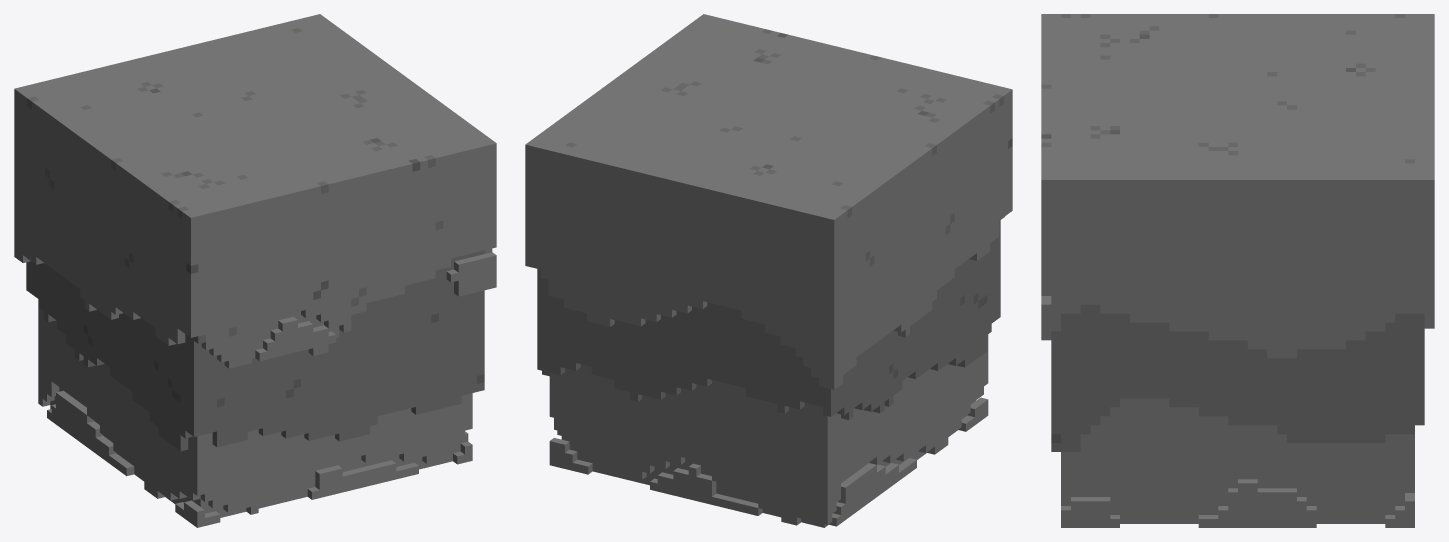
File: rock.obj
3 views of the same model, side by side, from view 1: azimuth 30°, elevation 25°; view 2: azimuth 150°, elevation 25°; view 3: azimuth 270°, elevation 25° (orthographic). The views are drawn at different scales.
Visible parts, largest first — view 1: rock; view 2: rock; view 3: rock.
Boxes of the visible parts, left/top/right/bottom form: rock: left=14, top=14, right=496, bottom=527; rock: left=525, top=14, right=1012, bottom=527; rock: left=1041, top=14, right=1434, bottom=527.
Bounding box in the file's own units: 40 × 40 × 40.
1 material, 1 textured.
